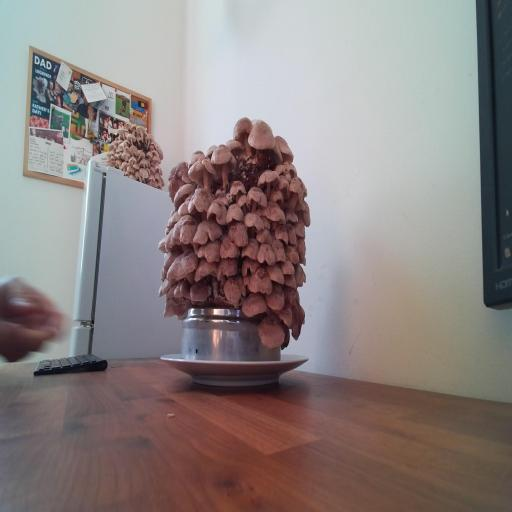Shiitake Mushroom: (179, 145, 227, 200), (200, 135, 246, 190), (251, 306, 292, 361), (155, 154, 201, 202), (223, 108, 268, 157), (242, 112, 282, 163), (215, 265, 255, 313), (182, 178, 218, 227), (166, 242, 200, 287), (251, 158, 286, 201), (186, 214, 228, 248), (166, 173, 202, 210), (281, 298, 311, 342), (170, 207, 200, 250), (260, 277, 291, 318), (235, 287, 273, 320), (269, 128, 299, 169), (279, 173, 308, 214), (270, 294, 301, 332), (239, 202, 268, 242), (253, 198, 289, 224), (292, 197, 318, 232), (220, 130, 249, 161), (189, 254, 221, 282), (271, 172, 298, 205), (152, 270, 180, 301), (244, 180, 269, 214), (157, 242, 184, 273), (158, 226, 184, 258), (225, 173, 249, 205), (248, 266, 273, 295), (236, 252, 265, 277), (269, 234, 289, 268), (265, 139, 286, 171), (215, 255, 239, 283), (278, 155, 303, 181), (182, 145, 209, 169), (289, 260, 310, 290), (264, 184, 290, 208), (233, 190, 256, 217), (256, 241, 278, 269), (228, 220, 249, 248), (197, 239, 221, 262), (252, 225, 277, 247), (207, 197, 227, 224), (241, 235, 261, 261), (162, 297, 186, 318), (190, 279, 210, 303), (292, 216, 309, 242), (163, 209, 184, 230), (220, 236, 240, 258), (162, 281, 182, 303), (266, 261, 285, 284), (281, 206, 303, 225), (225, 202, 244, 223), (285, 220, 299, 248), (284, 243, 301, 265), (216, 190, 233, 212), (203, 139, 220, 160), (282, 285, 298, 307), (179, 277, 192, 299), (274, 224, 289, 243), (280, 321, 290, 349), (260, 212, 273, 233), (174, 202, 192, 217), (280, 258, 295, 275), (297, 237, 306, 262), (272, 162, 288, 176), (284, 273, 298, 288), (158, 235, 166, 253)
